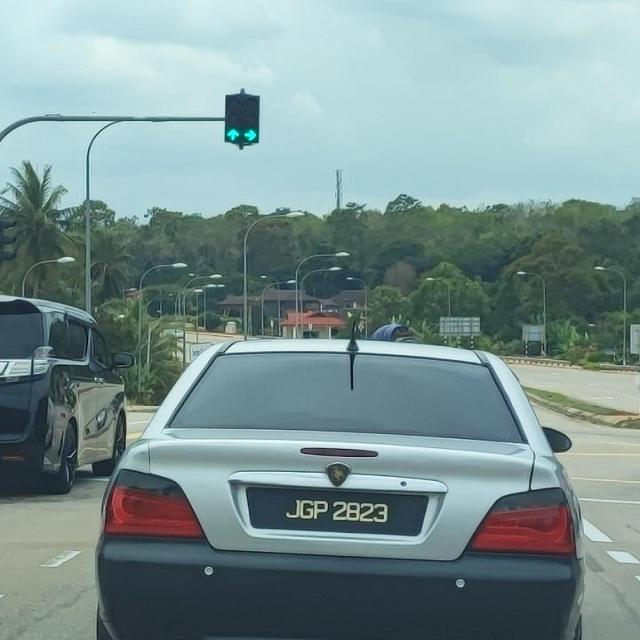car: (93, 331, 589, 640), (0, 293, 135, 496)
traffic light: (224, 94, 260, 145)
